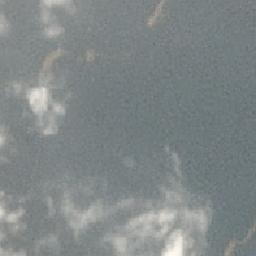cloud: (68, 155, 206, 256), (11, 80, 65, 139)
